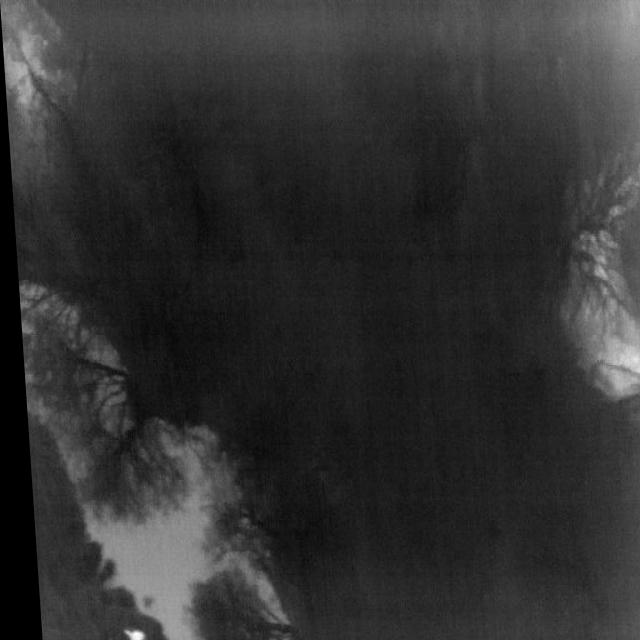deer: (115, 628, 139, 640)
